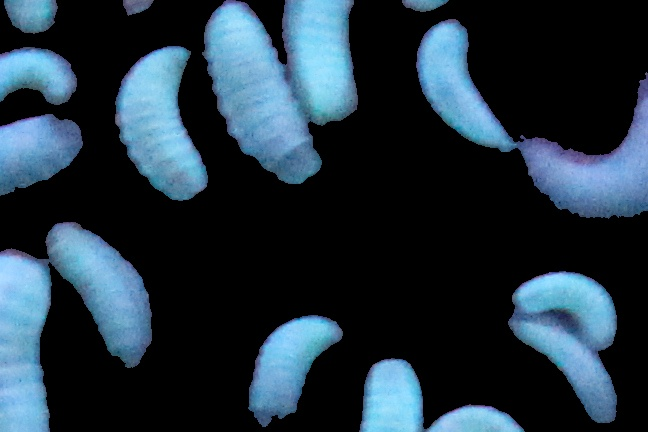larvae: (207, 1, 320, 183), (519, 69, 648, 223), (112, 39, 213, 201), (51, 219, 156, 368), (410, 18, 513, 153), (1, 244, 57, 432), (253, 307, 343, 420), (284, 1, 361, 118), (527, 324, 616, 421), (518, 271, 618, 340), (2, 111, 77, 197), (364, 352, 437, 432), (1, 50, 75, 113), (1, 1, 43, 29)
